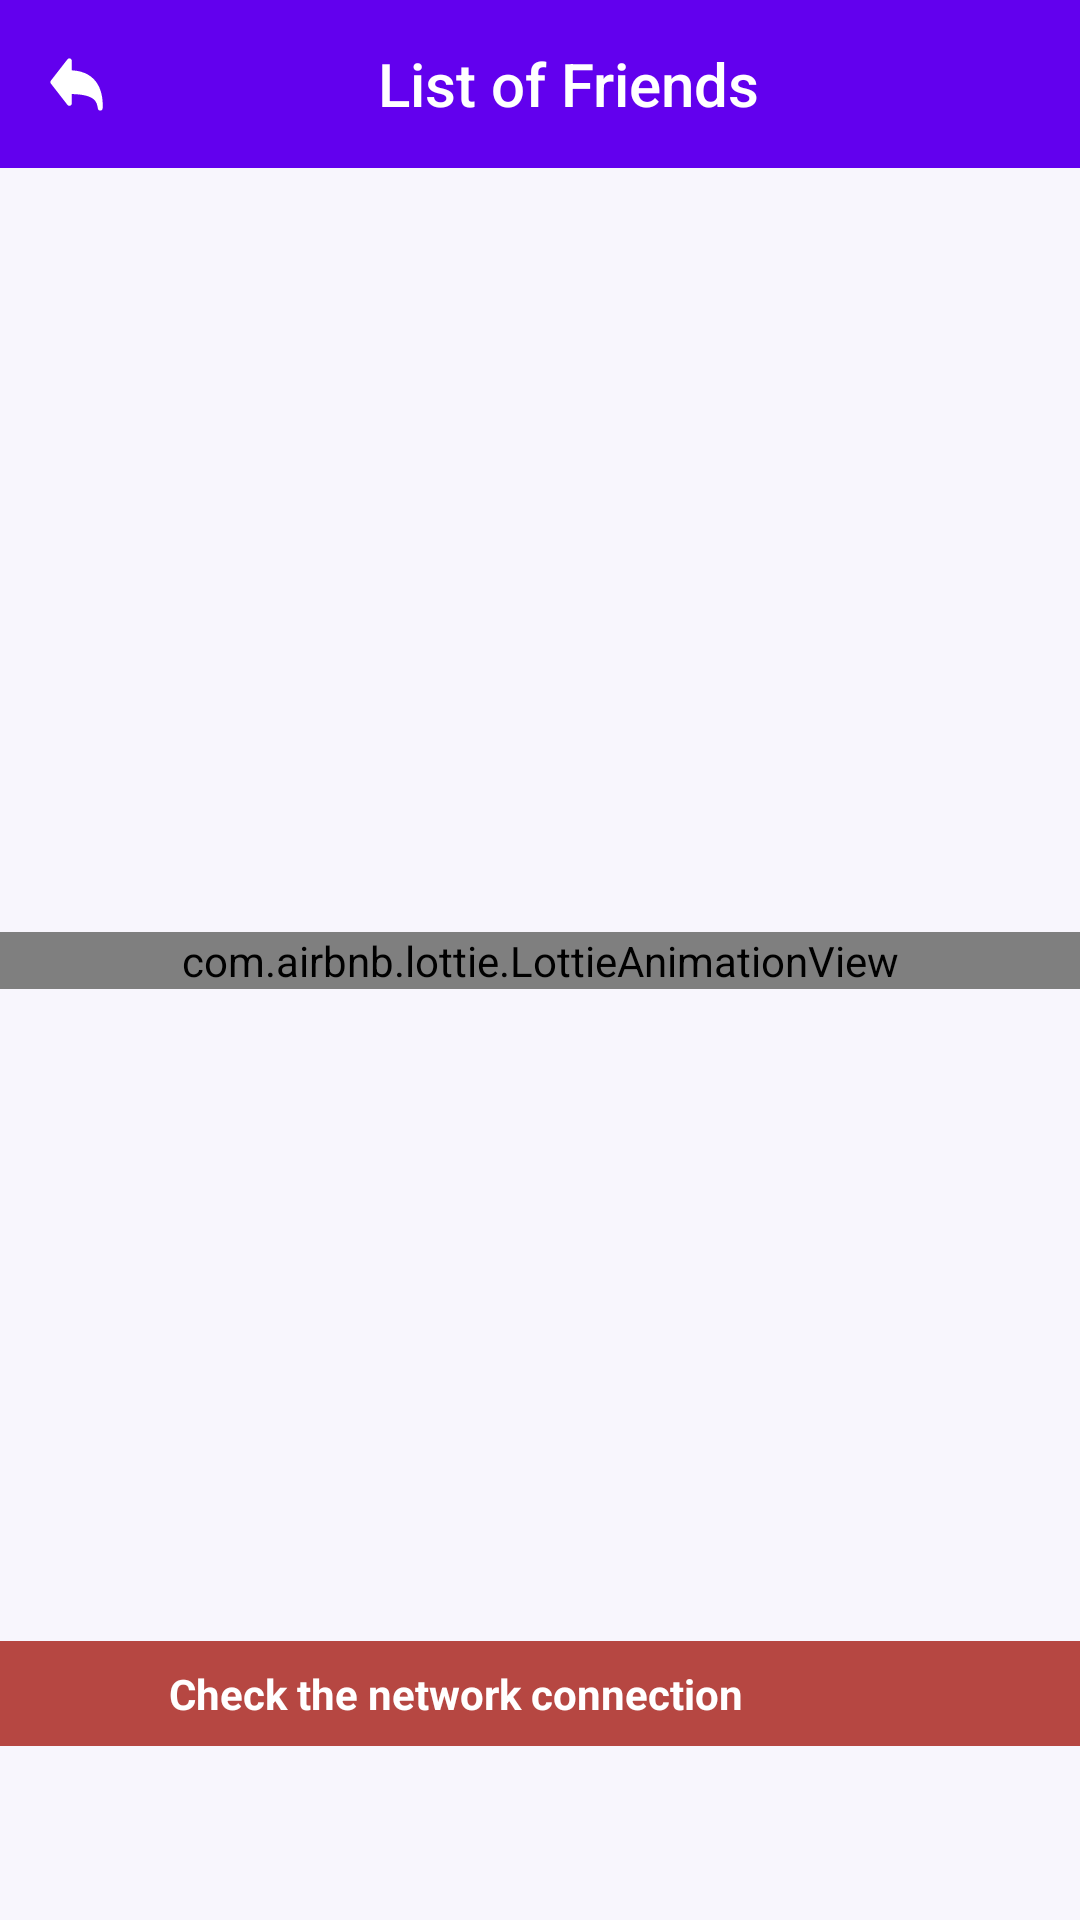

Screen size 1080x1920. Icon name, then its center in pixels as (x=x, y=y):
arrow: (x=76, y=84)
